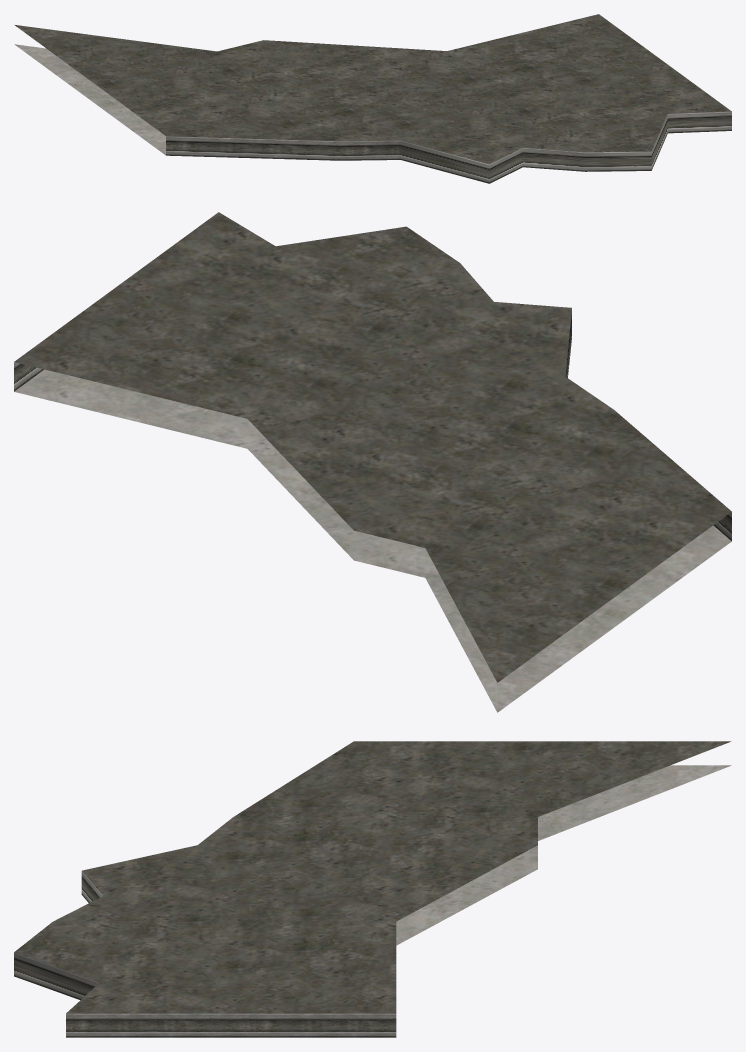
File: DWARF_PALACE_MAINHALL_CAVEPLATFRM01.fbx
The picture shows the model from 3 angles, top to bottom: view 1: azimuth 30°, elevation 25°; view 2: azimuth 150°, elevation 25°; view 3: azimuth 270°, elevation 25°; orthographic projection. The views are drawn at different scales.
Visible parts, largest first — view 1: DWARF_PALACE_MAINHALL_CAVEPLATFRM01; view 2: DWARF_PALACE_MAINHALL_CAVEPLATFRM01; view 3: DWARF_PALACE_MAINHALL_CAVEPLATFRM01.
Boxes of the visible parts, bbox=[...] form: DWARF_PALACE_MAINHALL_CAVEPLATFRM01: bbox=[14, 14, 731, 183]; DWARF_PALACE_MAINHALL_CAVEPLATFRM01: bbox=[14, 212, 731, 712]; DWARF_PALACE_MAINHALL_CAVEPLATFRM01: bbox=[14, 741, 731, 1037].
Size of the model in its own units: 121087 by 5000 by 134880.
3 materials, 3 textured.
